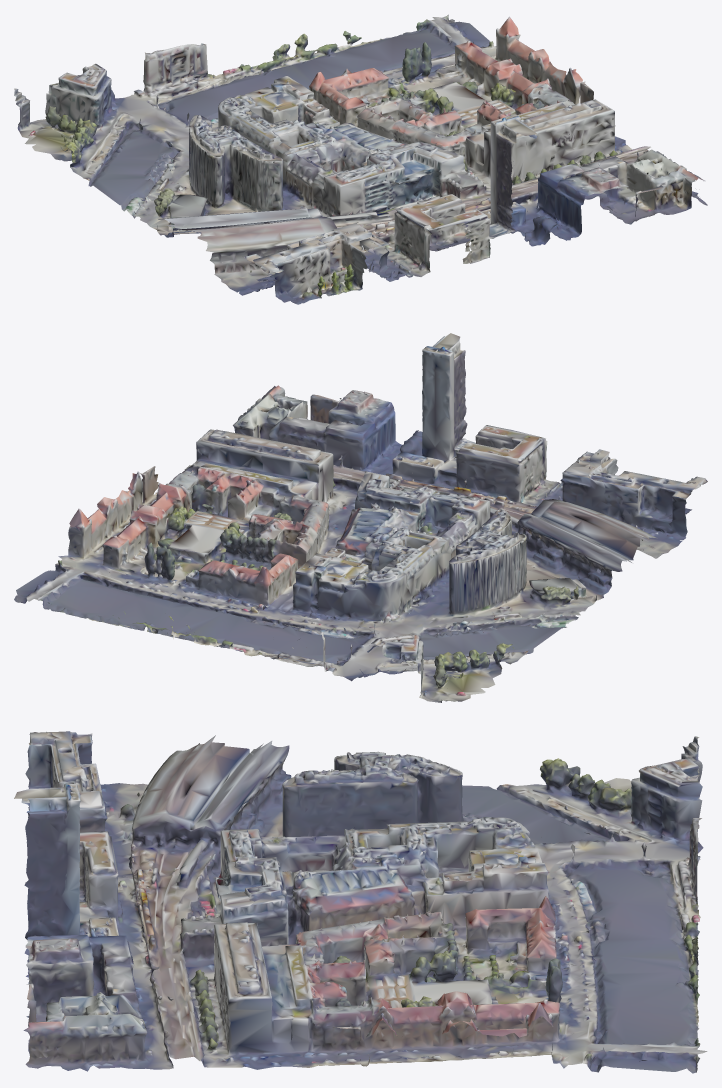
The model's file is tile-3905_58200.glb.
The picture shows the model from 3 angles, top to bottom: view 1: azimuth 30°, elevation 25°; view 2: azimuth 150°, elevation 25°; view 3: azimuth 270°, elevation 25°; orthographic projection. The views are drawn at different scales.
Visible parts, largest first — view 1: world; view 2: world; view 3: world.
Part boxes in pixels (left/top/right/bottom): world: left=14, top=14, right=707, bottom=304; world: left=14, top=333, right=707, bottom=702; world: left=14, top=731, right=707, bottom=1073.
Bounding box in the file's own units: 379 × 99.76 × 375.
